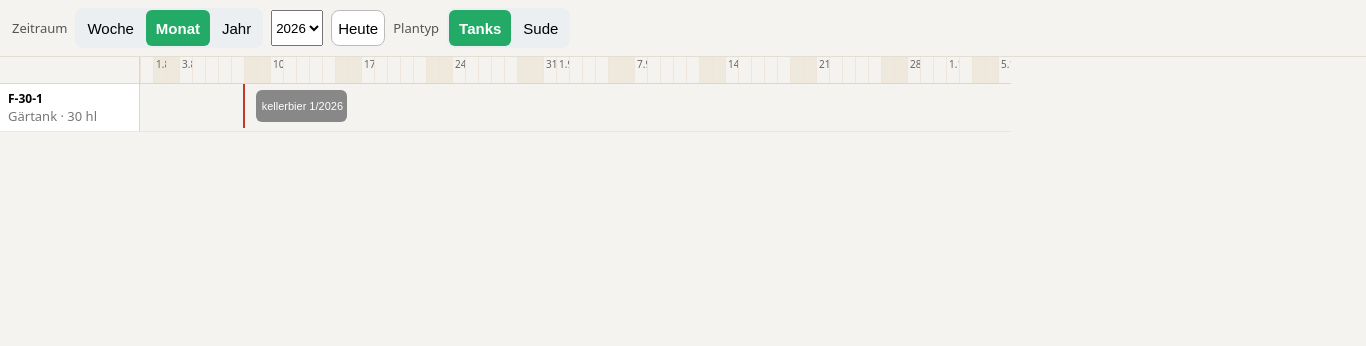
Zeitplan (Zeitraum-Auswahl) › Jahr zeigt Monatsnamen im Kopf, Blöcke bleiben ansprechbar
The width and height of the screenshot is (1366, 346).
Click the button "Jahr".
click(237, 28)  # box [212,10,261,46]
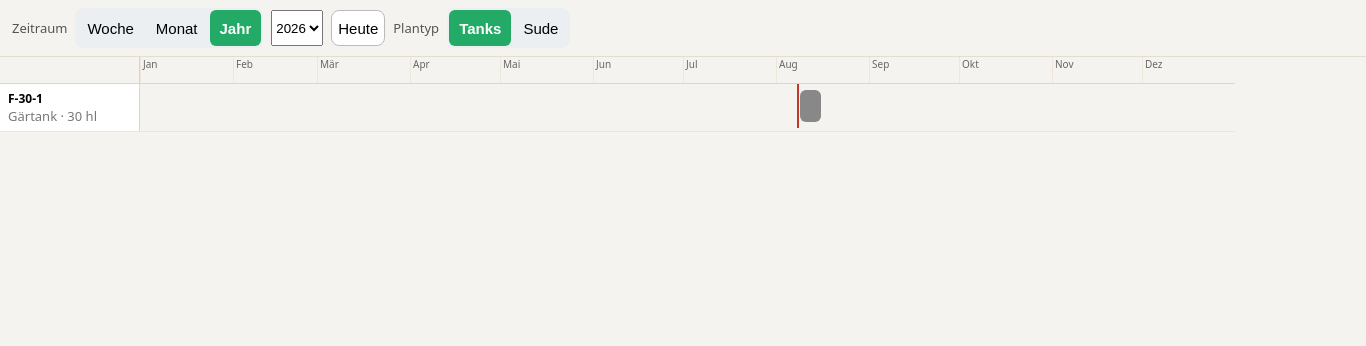
Expected: the text "Jan" is shown, [140,57,180,83]
Expected: the text "Dez" is shown, [1142,57,1182,83]
# Der Block traegt seinen Namen weiter als aria-label und ist waehlbar.
Click the button named "kellerbier 1/2026".
click(810, 106)  # box [800,90,821,122]
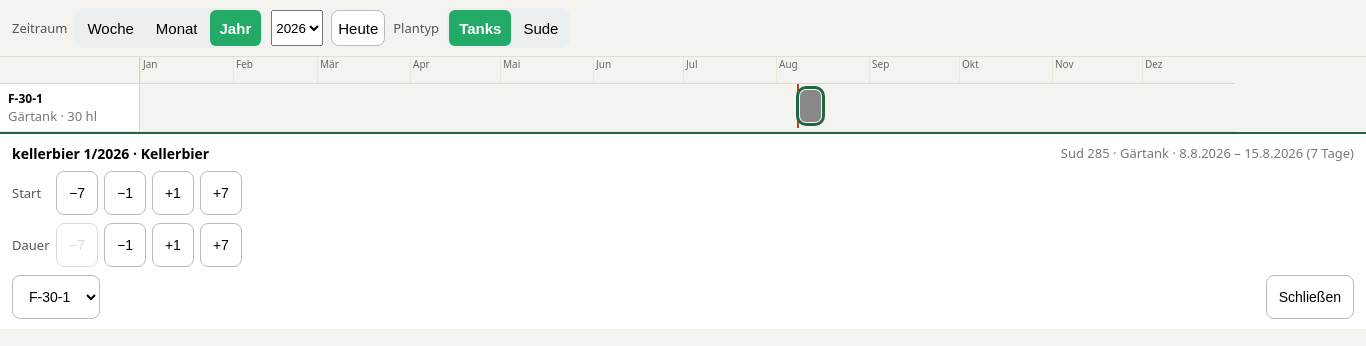
Expected: the element named "Sud verschieben" is shown, [0,132,1365,329]
